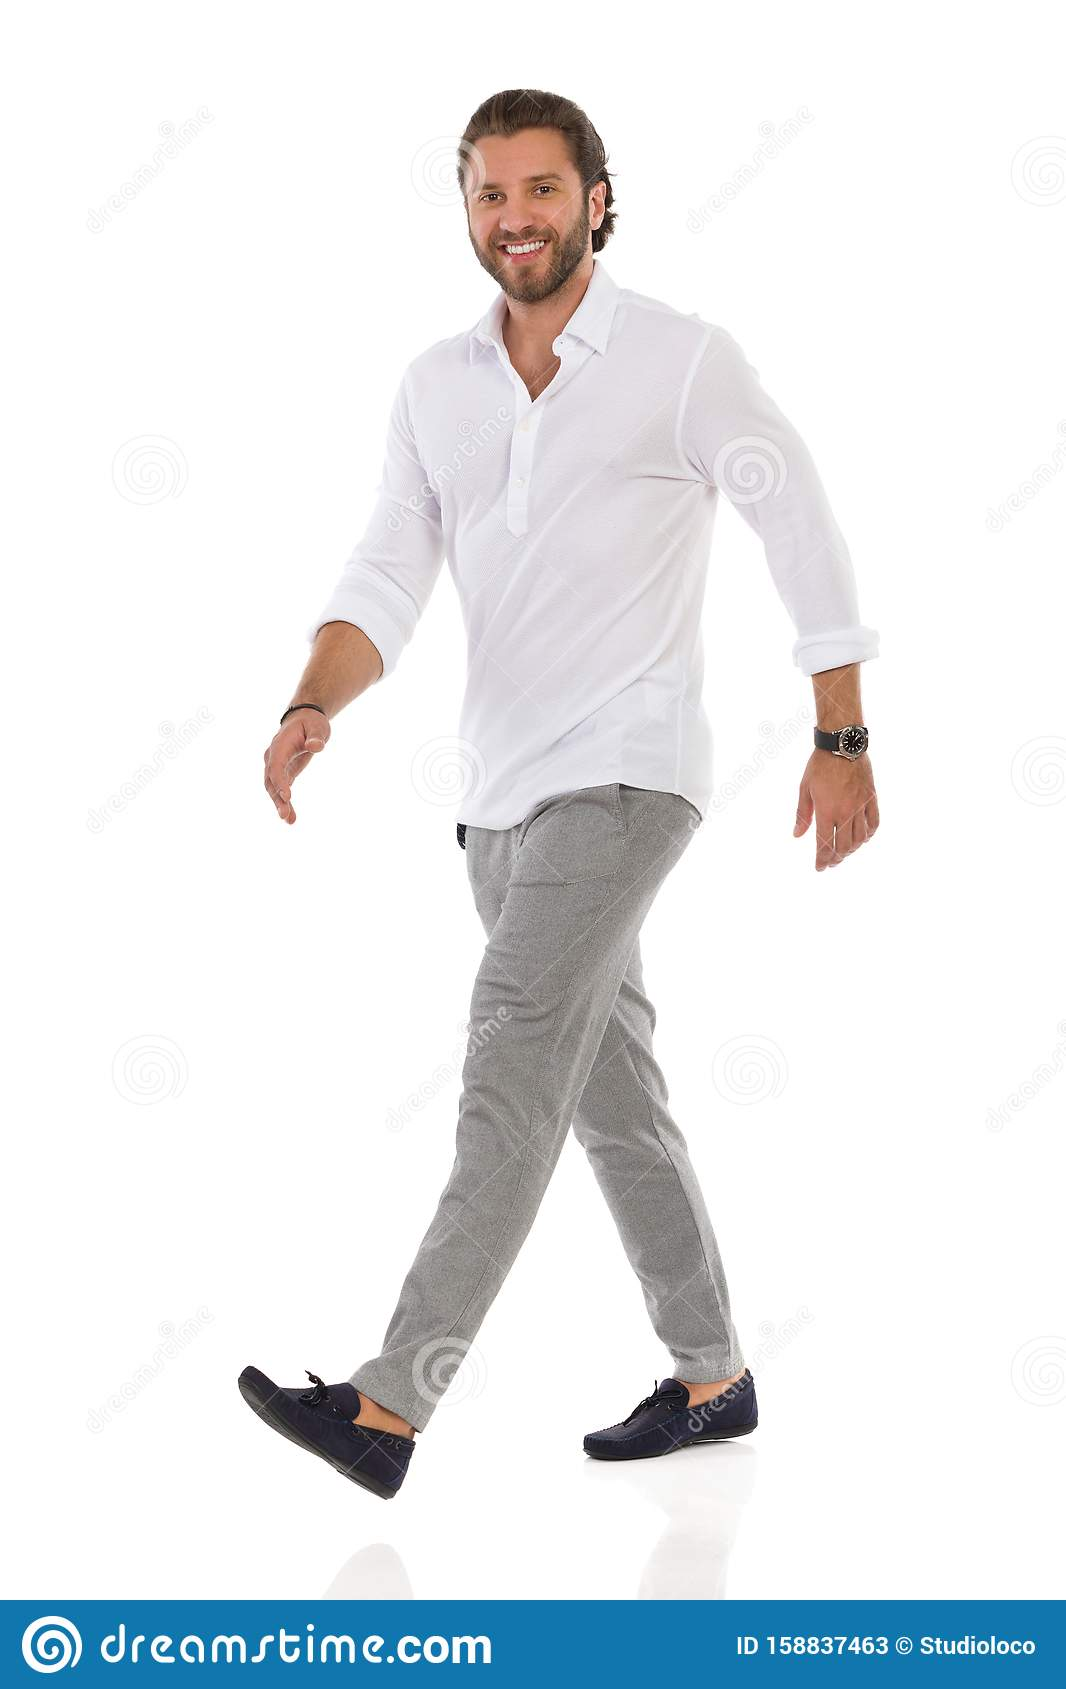person: (241, 93, 882, 1500)
